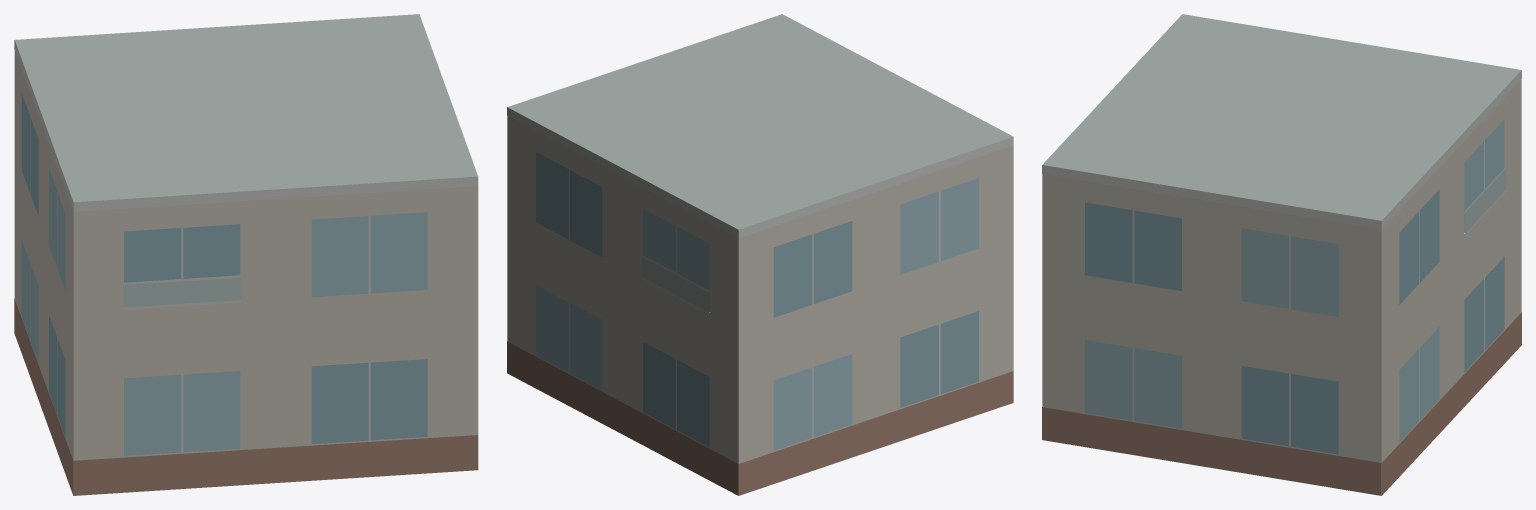
The model's file is survey-upis-32913899.glb.
3 renders of one model, left to right at view 1: azimuth 30°, elevation 25°; view 2: azimuth 150°, elevation 25°; view 3: azimuth 270°, elevation 25°, orthographic. The views are drawn at different scales.
Visible parts, largest first — view 1: survey-upis-32913899.tmp; view 2: survey-upis-32913899.tmp; view 3: survey-upis-32913899.tmp.
Boxes of the visible parts, bbox=[...] form: survey-upis-32913899.tmp: bbox=[14, 14, 478, 495]; survey-upis-32913899.tmp: bbox=[507, 14, 1013, 495]; survey-upis-32913899.tmp: bbox=[1042, 14, 1521, 495].
Bounding box in the file's own units: 12.1 × 7.5 × 11.86.
